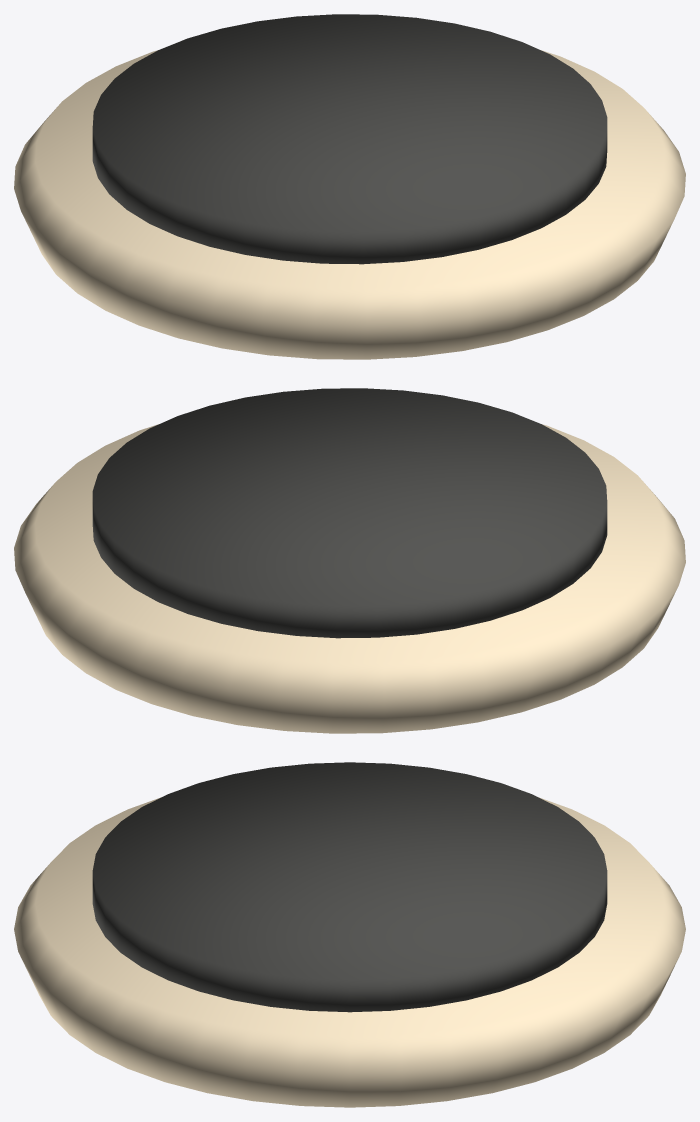
File: CeilingDisc.fbx
3 views of the same model, one above another, from view 1: azimuth 30°, elevation 25°; view 2: azimuth 150°, elevation 25°; view 3: azimuth 270°, elevation 25° (orthographic).
Parts seen in each view (by area): view 1: CeilingDisc; view 2: CeilingDisc; view 3: CeilingDisc.
Boxes of the visible parts, x1=… form: CeilingDisc: x1=14, y1=14, x2=685, y2=359; CeilingDisc: x1=14, y1=388, x2=685, y2=733; CeilingDisc: x1=14, y1=762, x2=685, y2=1107.
Size of the model in its own units: 0.47 by 0.08 by 0.47.
